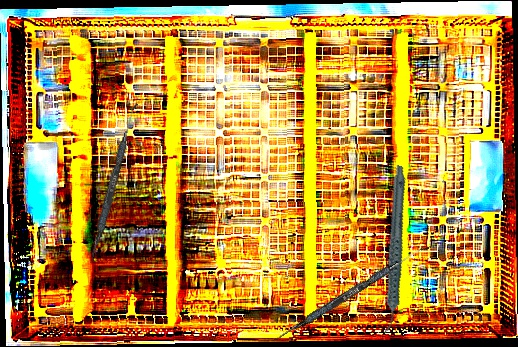Handpiece: (347, 164, 439, 335)
Spatula Surgical: (272, 239, 430, 347), (88, 101, 138, 265)
